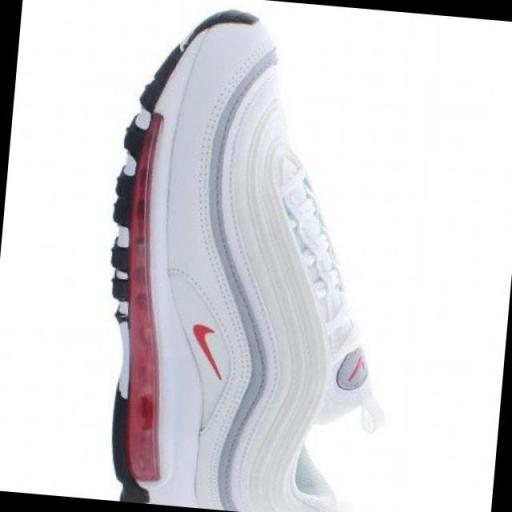Nike: (184, 314, 229, 388)
